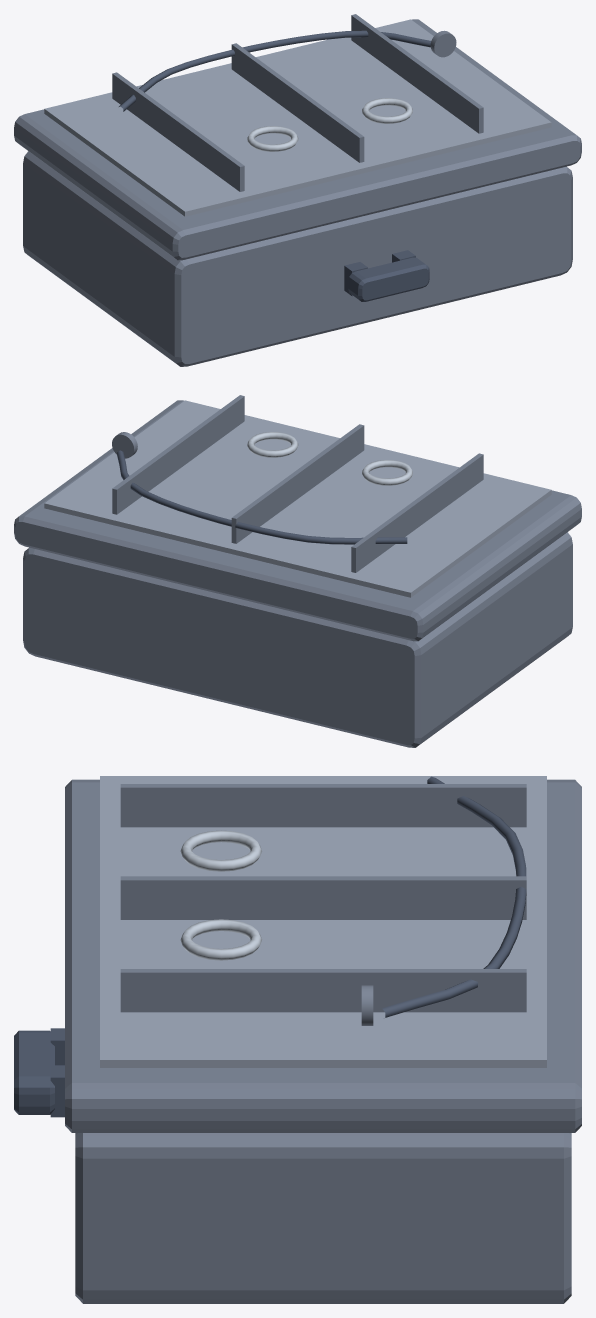
Rendered from jewelry-box-lite.glb.
3 renders of one model, top to bottom at view 1: azimuth 30°, elevation 25°; view 2: azimuth 150°, elevation 25°; view 3: azimuth 270°, elevation 25°, orthographic. The views are drawn at different scales.
Parts seen in each view (by area): view 1: body, soft, accent, dark, light; view 2: body, soft, accent, dark, light; view 3: body, soft, accent, dark, light.
Part boxes in pixels (x1,y1,x2,y2): body: (23,14,572,366); soft: (44,19,551,216); accent: (14,19,581,260); dark: (119,30,431,301); light: (247,98,412,151); body: (23,395,572,747); soft: (44,400,551,597); accent: (14,400,581,641); dark: (117,450,407,544); light: (247,432,412,485); body: (75,784,571,1303); soft: (100,776,546,1067); accent: (65,779,581,1132); dark: (14,776,526,1117); light: (180,830,261,960).
Bounding box in the file's own units: 0.257 × 0.1105 × 0.1945.
